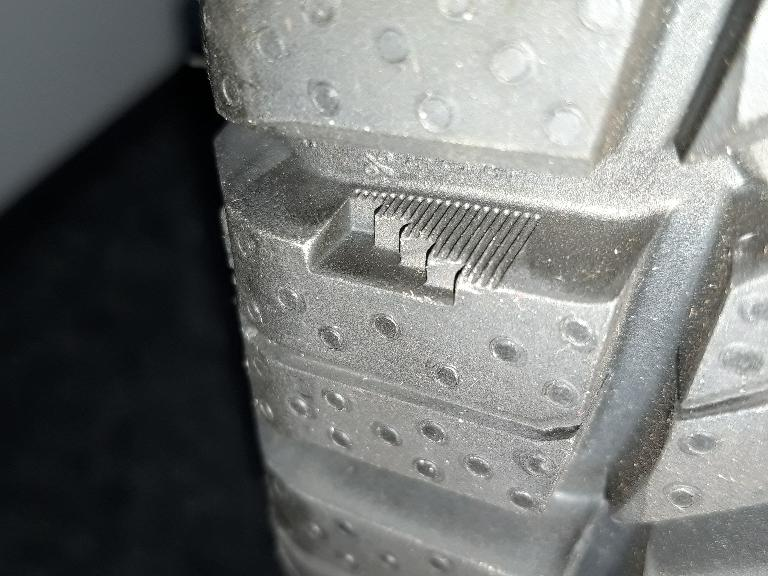temoin:100: (292, 176, 552, 320)
